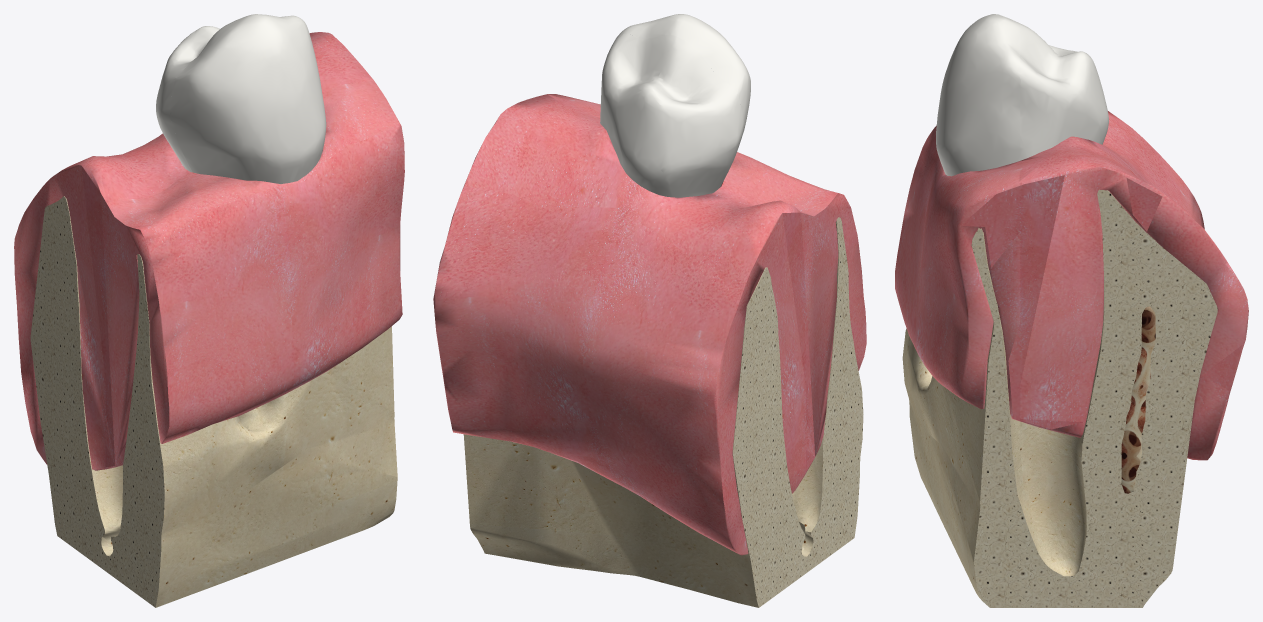
3 renders of one model, left to right at view 1: azimuth 30°, elevation 25°; view 2: azimuth 150°, elevation 25°; view 3: azimuth 270°, elevation 25°, orthographic. The views are drawn at different scales.
Visible parts, largest first — view 1: gingiva_b, kompakta_b, schmelz_b, gingiva_a, kompakta_a, schmelz_a; view 2: gingiva_a, kompakta_a, schmelz_a, gingiva_b, kompakta_b, schmelz_b; view 3: kompakta_a, gingiva_a, gingiva_b, kompakta_b, schmelz_b, schmelz_a, spongiosa_a.
Part boxes in pixels (bbox=[...]): gingiva_b: bbox=[105, 79, 404, 469]; kompakta_b: bbox=[105, 254, 397, 607]; schmelz_b: bbox=[170, 14, 326, 183]; gingiva_a: bbox=[14, 32, 372, 470]; kompakta_a: bbox=[30, 196, 122, 570]; schmelz_a: bbox=[156, 20, 236, 172]; gingiva_a: bbox=[433, 94, 805, 555]; kompakta_a: bbox=[463, 267, 805, 607]; schmelz_a: bbox=[600, 34, 743, 197]; gingiva_b: bbox=[547, 94, 866, 473]; kompakta_b: bbox=[792, 217, 863, 573]; schmelz_b: bbox=[616, 14, 750, 155]; kompakta_a: bbox=[1020, 189, 1217, 607]; gingiva_a: bbox=[1020, 111, 1248, 460]; gingiva_b: bbox=[895, 125, 1020, 421]; kompakta_b: bbox=[902, 228, 1020, 607]; schmelz_b: bbox=[936, 14, 1020, 176]; schmelz_a: bbox=[1020, 23, 1108, 160]; spongiosa_a: bbox=[1121, 306, 1155, 493].
Size of the model in its own units: 0.0152 by 0.0285 by 0.0174.
21 materials, 8 textured.
